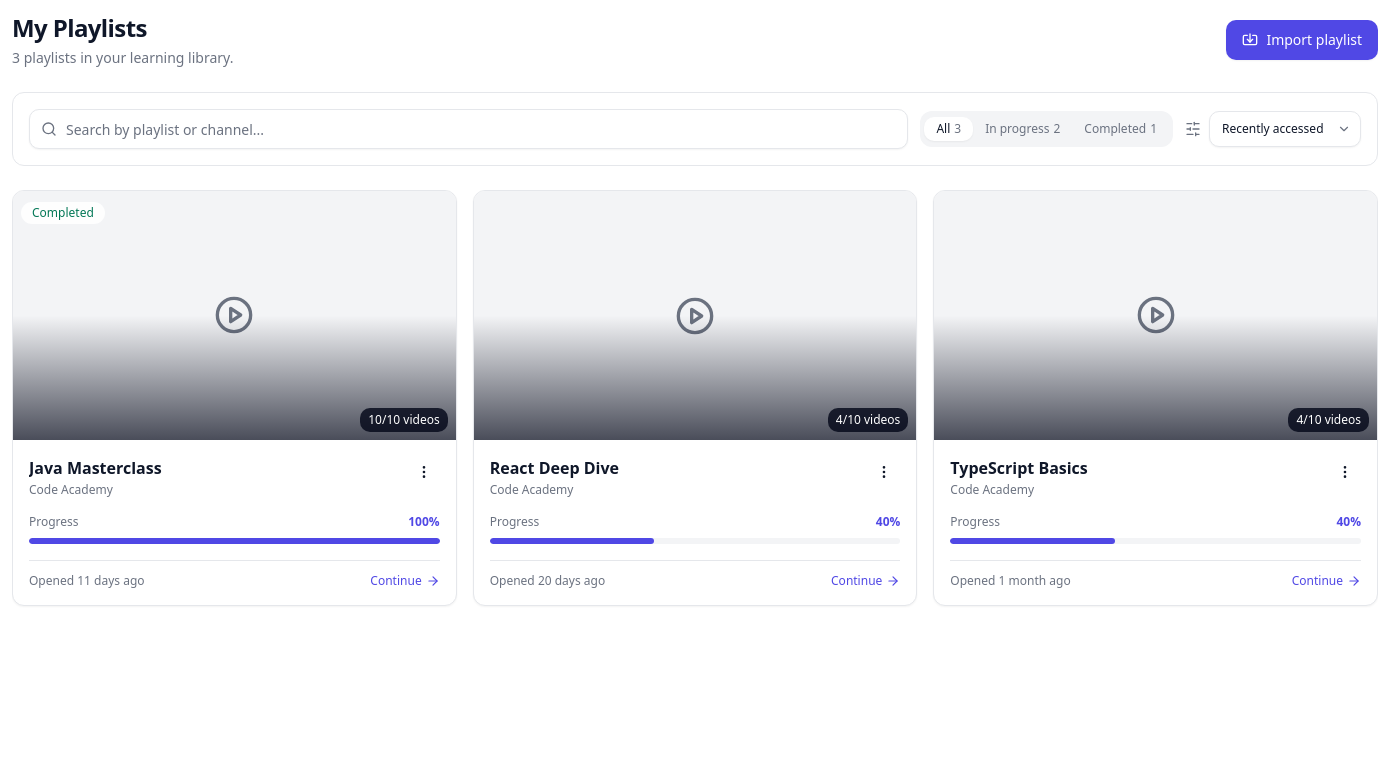
Test: playlist library › renders playlists and supports search and status filters
Expected: the link "React Deep Dive" is shown, [490,456,619,480]
Expected: the link "Java Masterclass" is shown, [29,456,162,480]
Type "java" into the field named "search playlists".
click(469, 129); type("java")  # box [29,109,908,149]
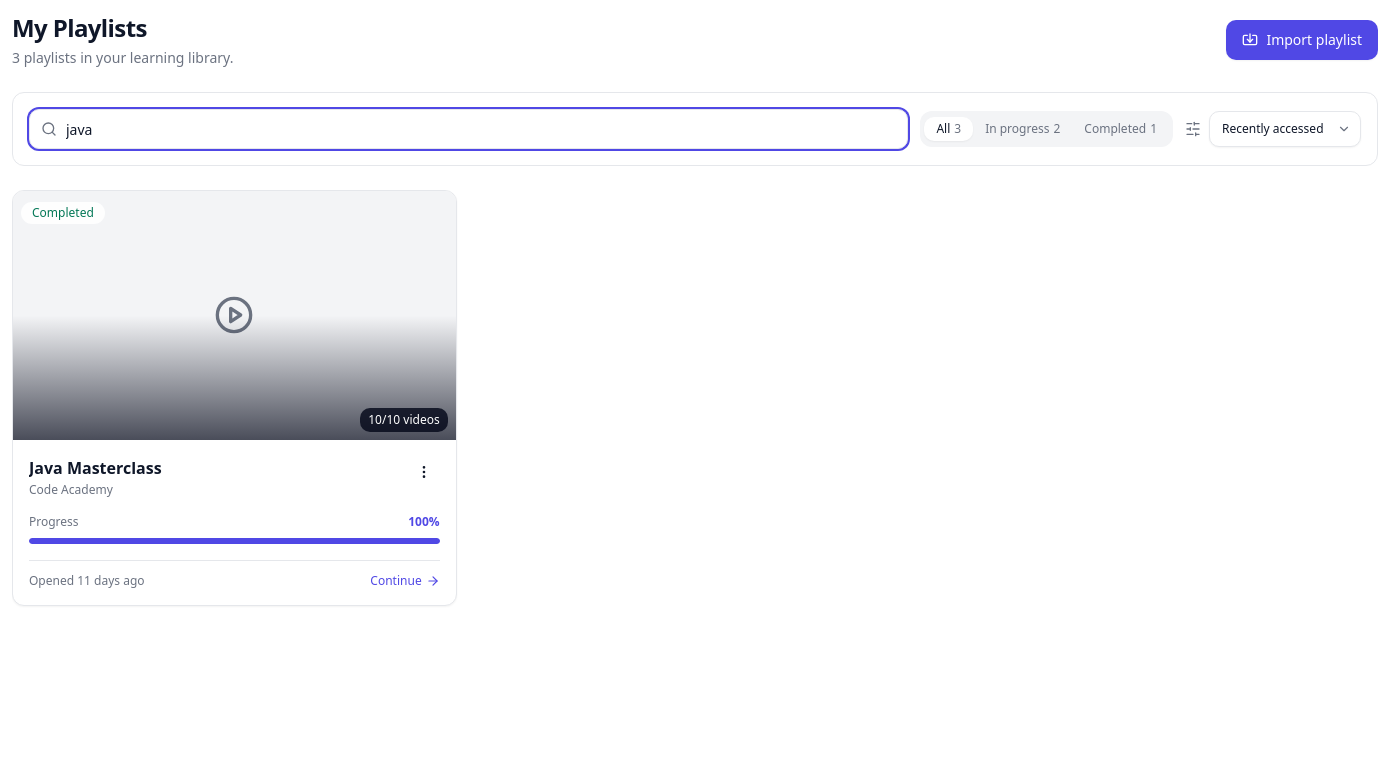
Expected: the link "Java Masterclass" is shown, [29,456,162,480]
Result: the link "React Deep Dive" is gone
Result: the link "TypeScript Basics" is gone
Clear the field named "search playlists" at x=469, y=129, box [29,109,908,149]
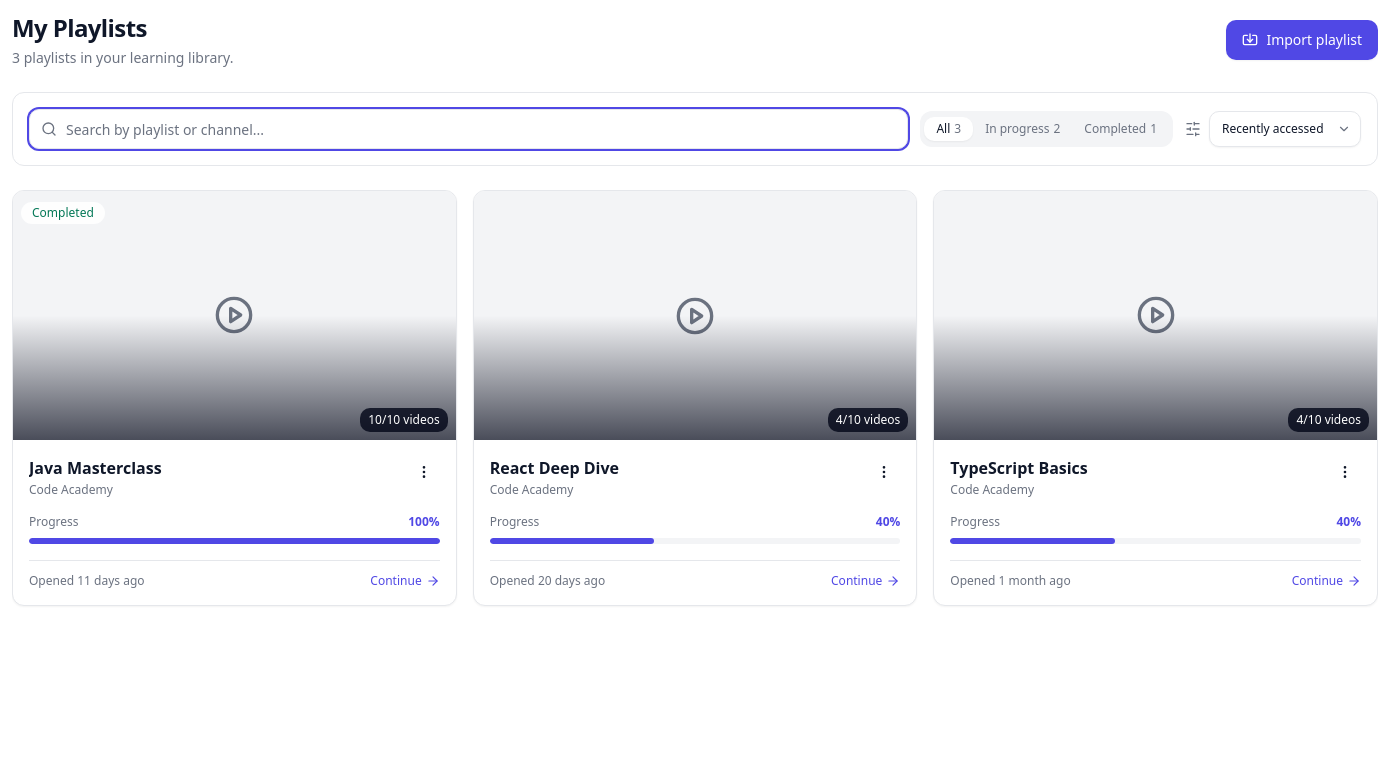
Click the tab "Completed 1".
click(1121, 129)  # box [1072,117,1169,141]
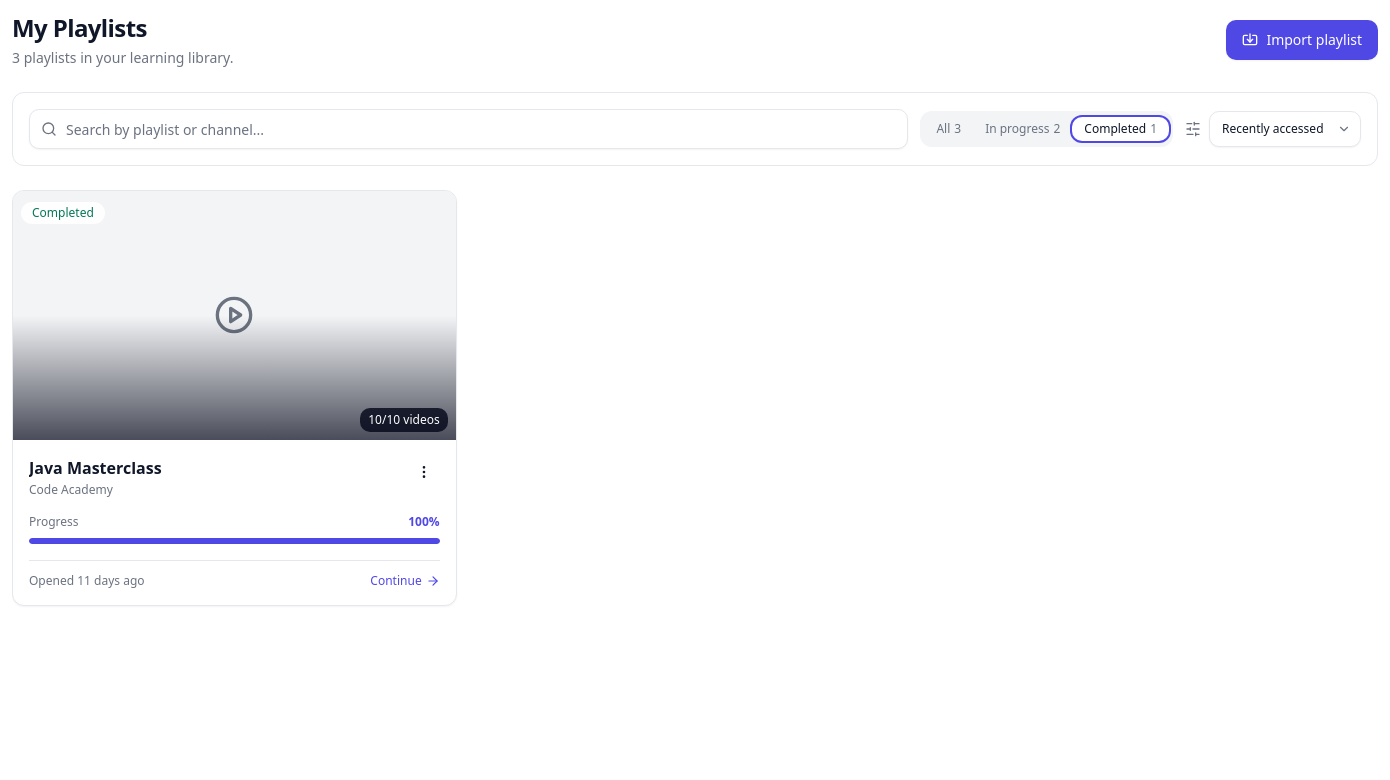
Expected: the link "Java Masterclass" is shown, [29,456,162,480]
Result: the link "React Deep Dive" is gone
